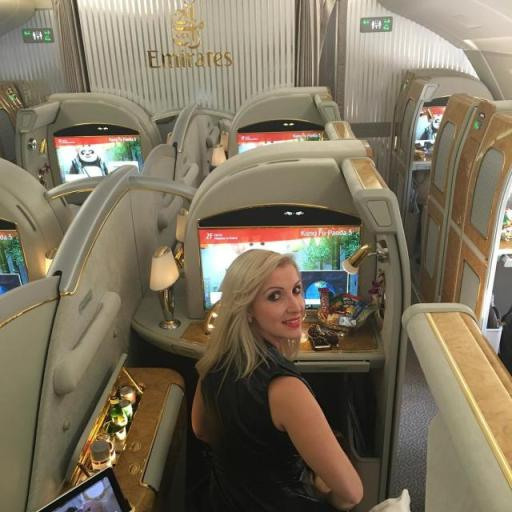Emirates: (146, 0, 232, 70)
